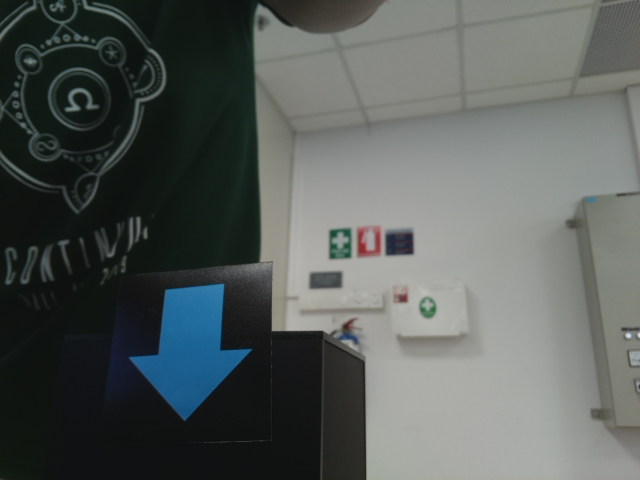down: (129, 283, 260, 431)
